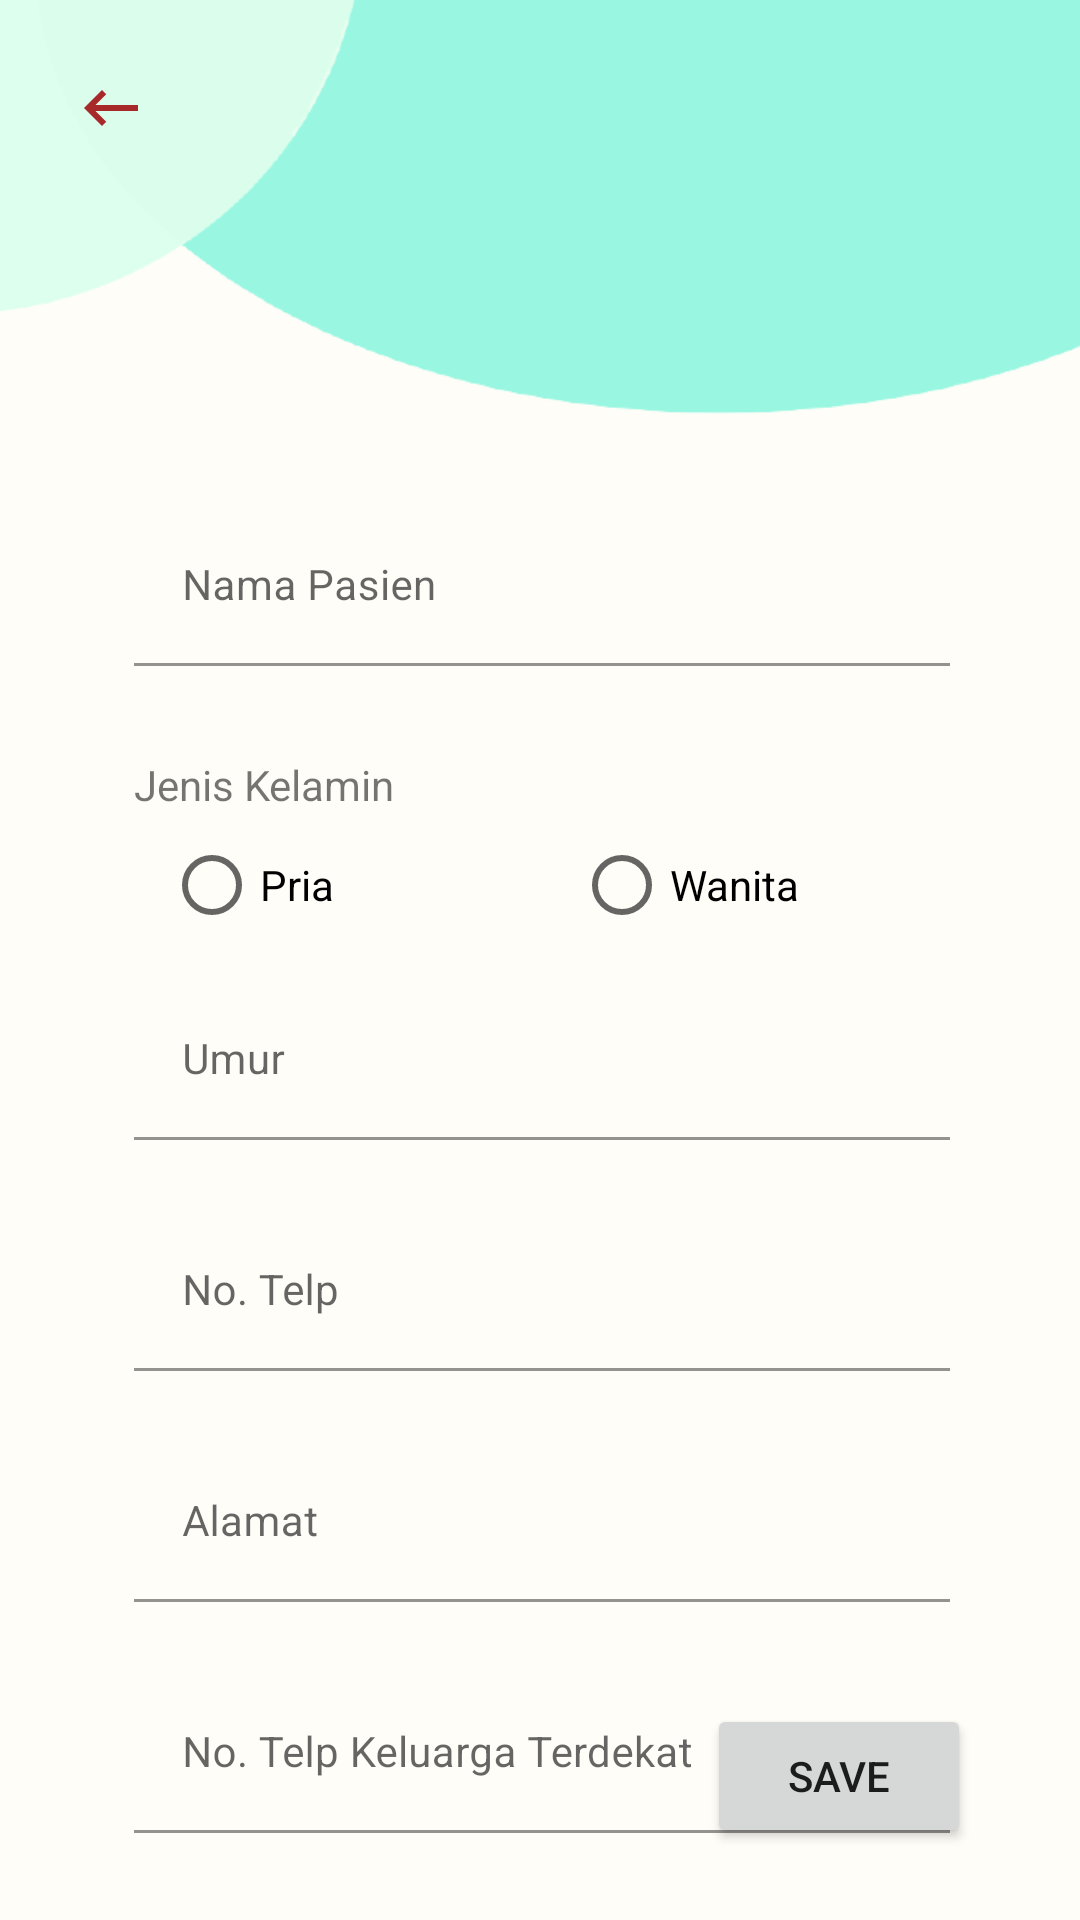

Point at icon controls on the screen. Image size 1080*1920, points as [x,y].
arrow back: [111,108]
